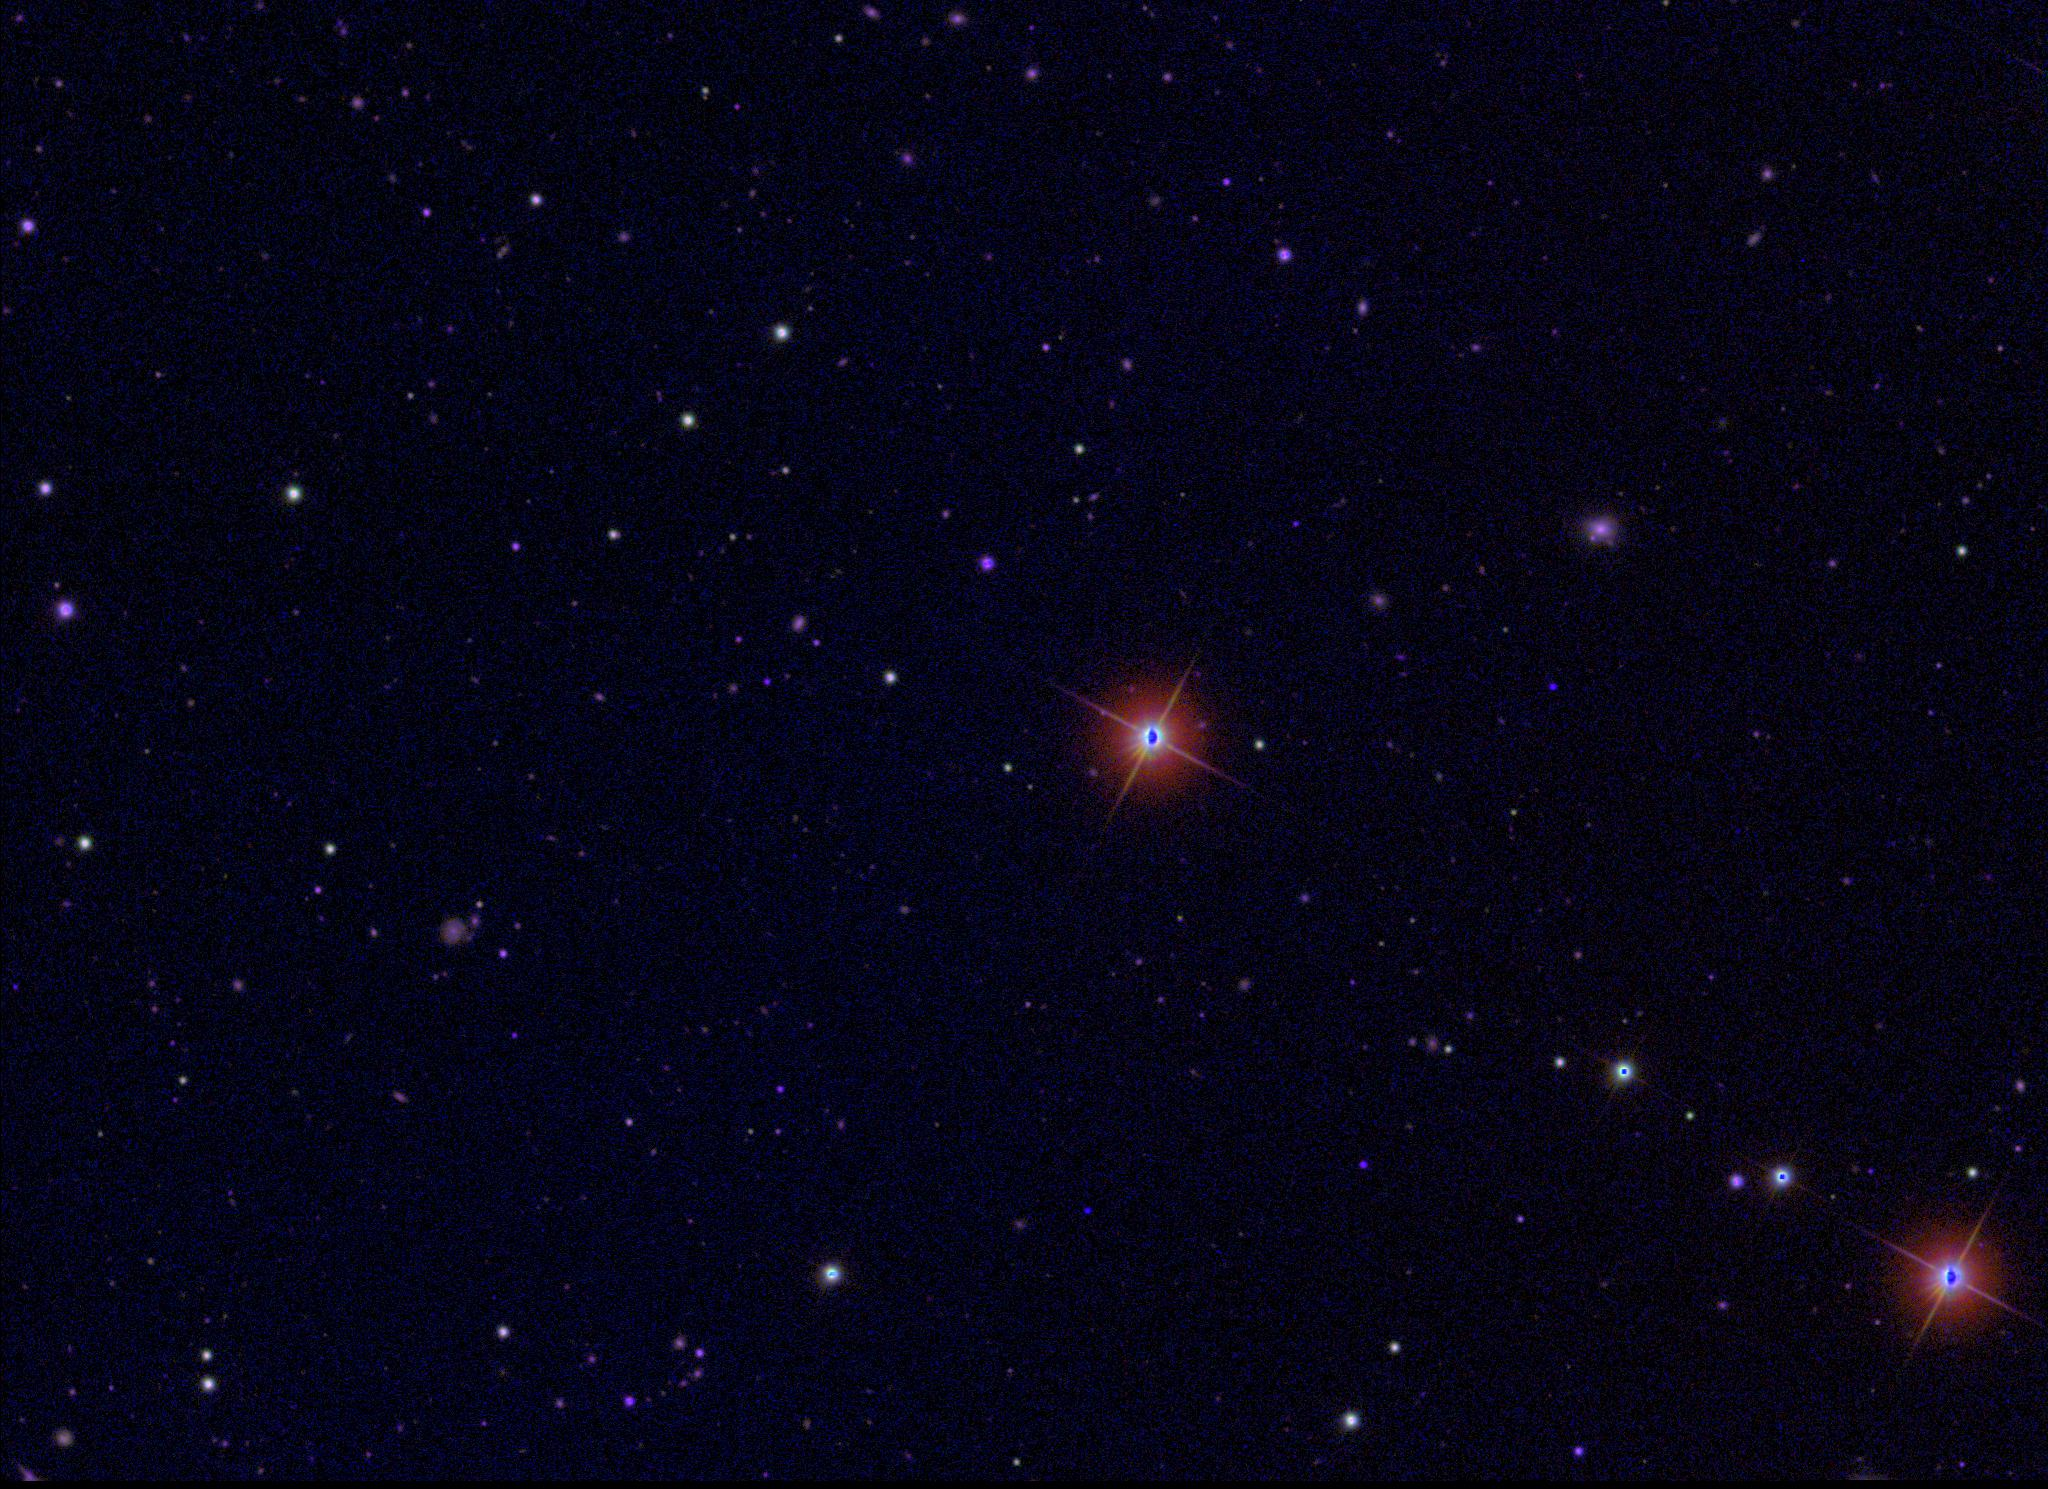L: (1080, 1204, 1092, 1219)
